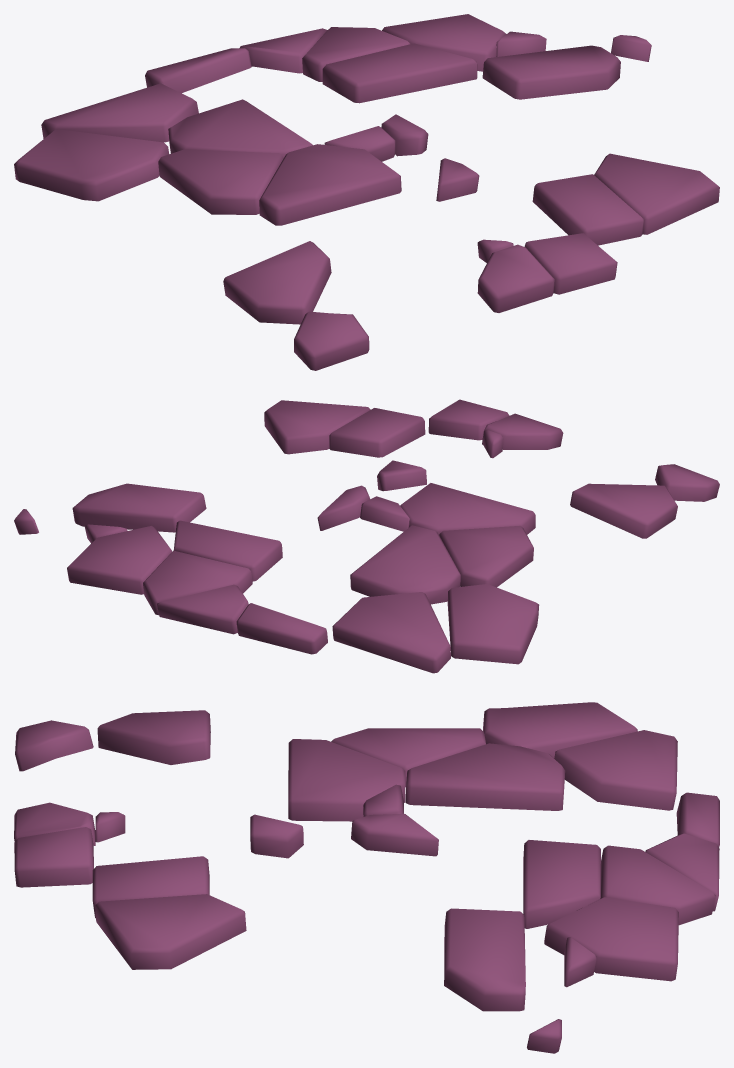
File: SM_floorFractures03_low.fbx
The picture shows the model from 3 angles, top to bottom: view 1: azimuth 30°, elevation 25°; view 2: azimuth 150°, elevation 25°; view 3: azimuth 270°, elevation 25°; orthographic projection. The views are drawn at different scales.
Parts seen in each view (by area): view 1: Grid_cell.003; view 2: Grid_cell.003; view 3: Grid_cell.003.
Boxes of the visible parts, left/top/right/bottom form: Grid_cell.003: left=14, top=14, right=719, bottom=370; Grid_cell.003: left=14, top=399, right=719, bottom=673; Grid_cell.003: left=14, top=702, right=719, bottom=1053.
Size of the model in its own units: 506 by 51.33 by 466.
